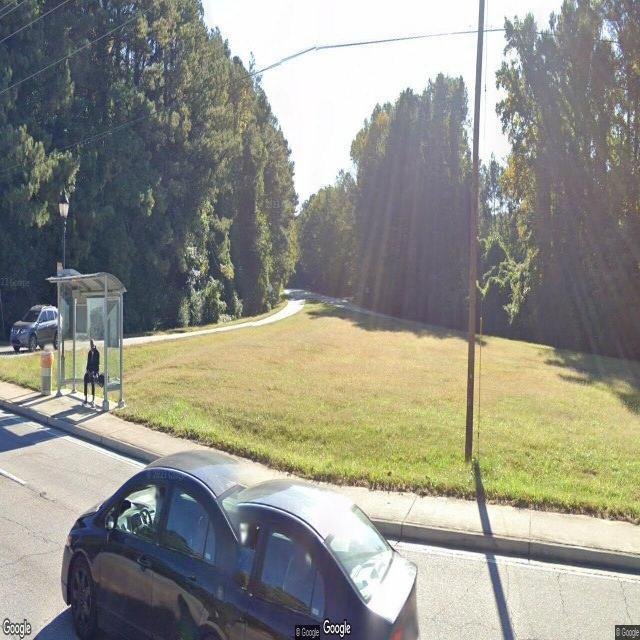seating: (82, 374, 111, 406)
shelter: (50, 270, 128, 416)
trash_can: (40, 349, 52, 395)
